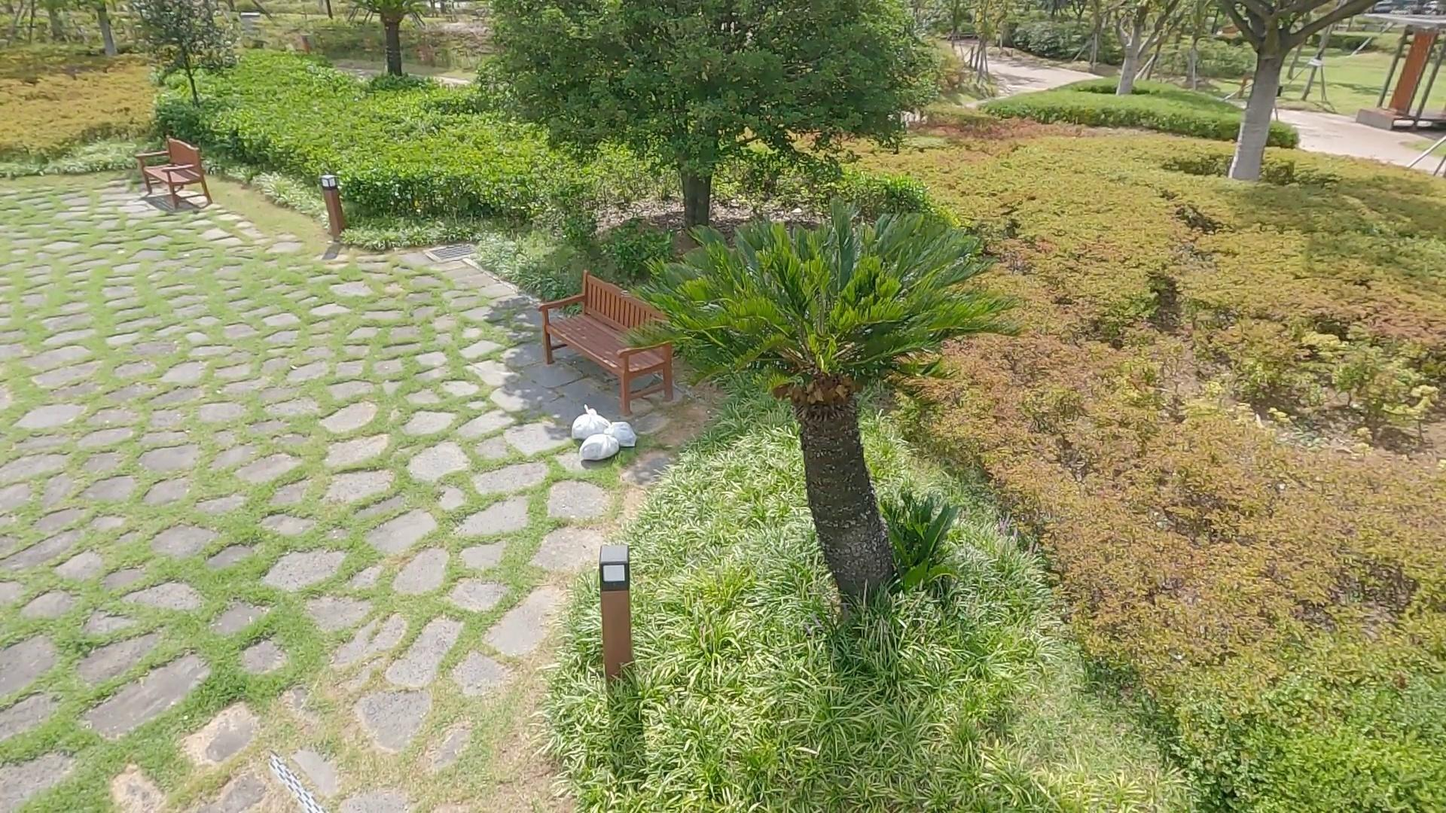trash: (571, 404, 608, 440), (580, 433, 621, 464), (607, 420, 639, 448)
